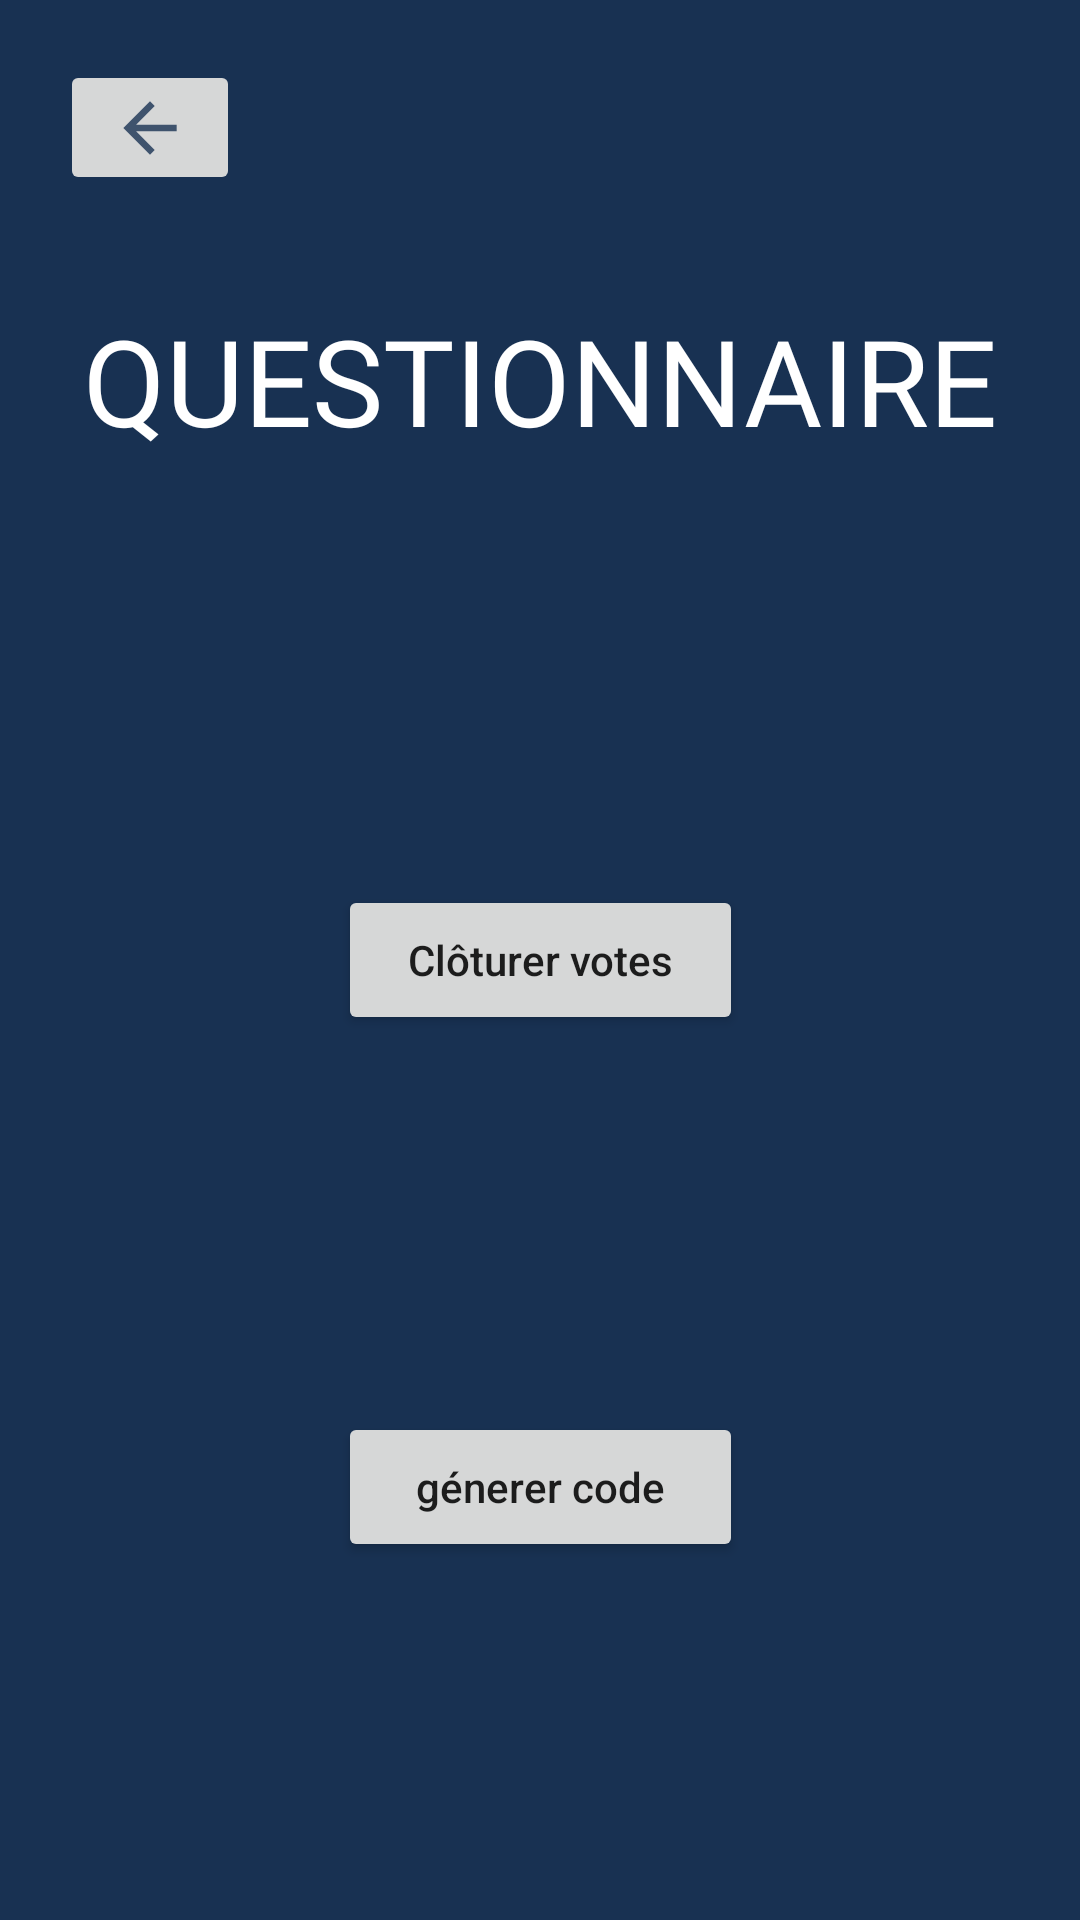

Where icons sit on this 1080w x 1920h app screen, as bbox=(x1, y1, x2, y2):
backblue: bbox=(72, 78, 228, 177)
